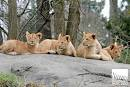lion: (2, 31, 46, 59), (76, 31, 104, 60), (47, 30, 74, 59), (109, 41, 124, 65)
